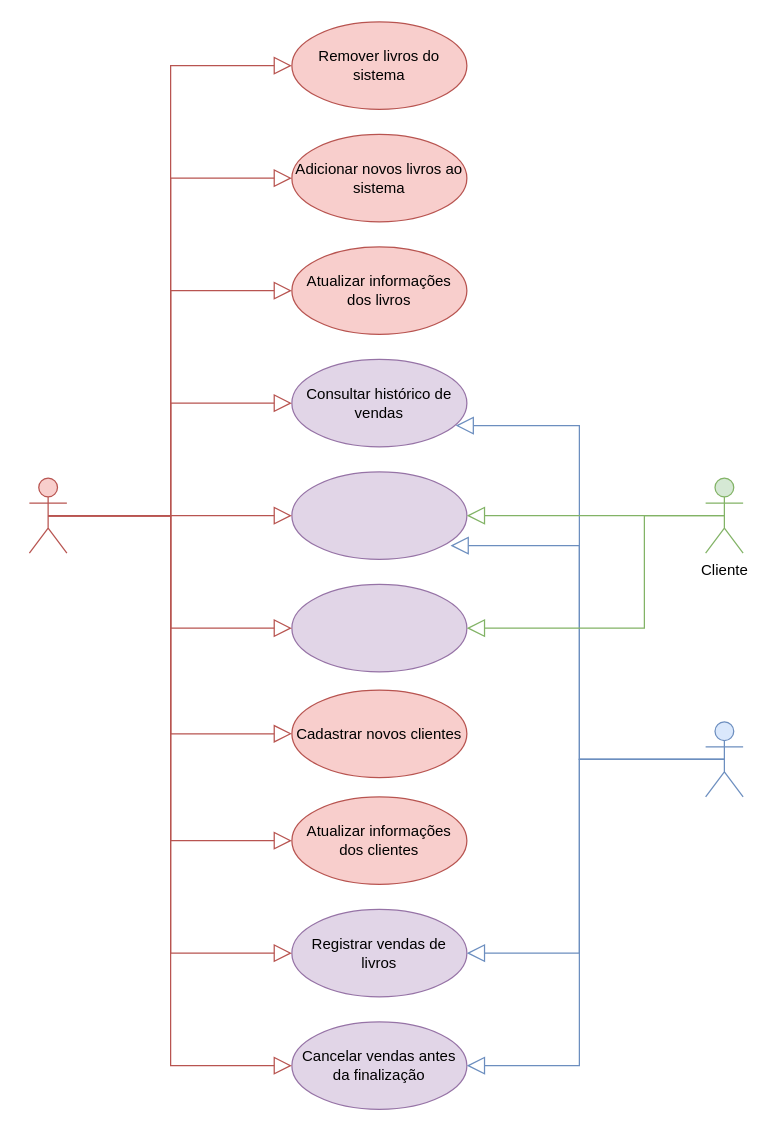
Image size: 778x1131. Some labels were removed from this diagram. The centre of each missing label's shape, as x and y in pixels:
Consultar histórico de compras de clientes: the point at 379,627
Consultar livros disponíveis: the point at 379,515
Gerente: the point at 47,515
Vendedor: the point at 723,759
